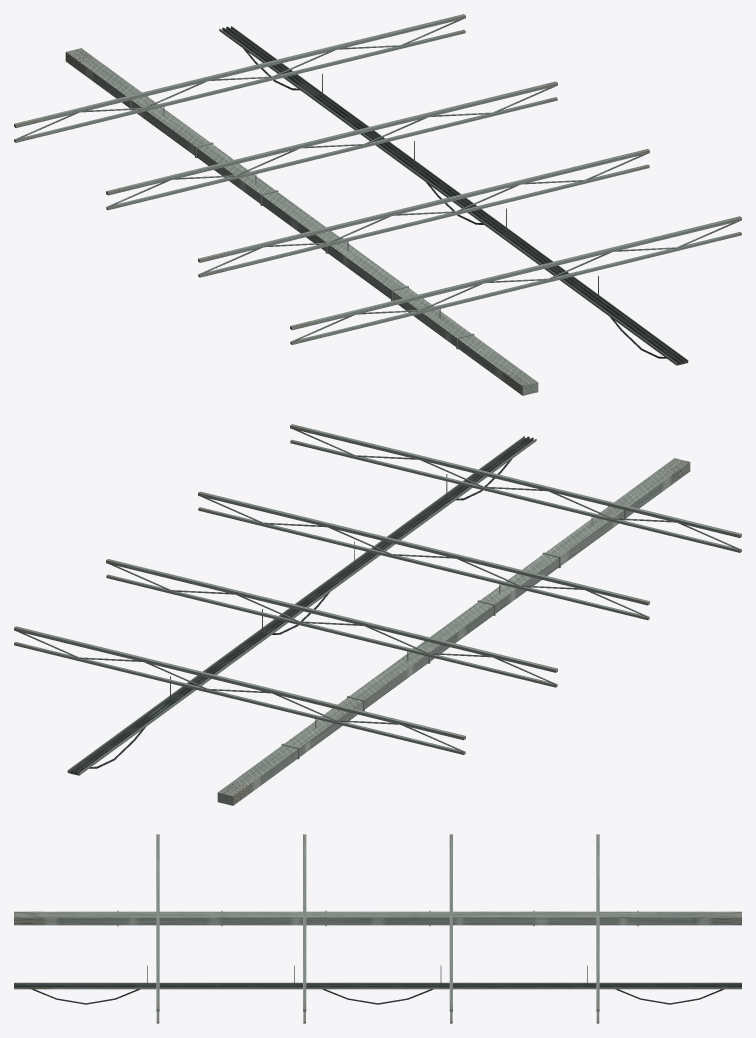
File: ceiling_containment_wing.glb
3 renders of one model, top to bottom at view 1: azimuth 30°, elevation 25°; view 2: azimuth 150°, elevation 25°; view 3: azimuth 270°, elevation 25°, orthographic. The views are drawn at different scales.
Visible parts, largest first — view 1: Ceiling; view 2: Ceiling; view 3: Ceiling.
Boxes of the visible parts, x1,y1,x2,y2 form: Ceiling: [14, 14, 741, 395]; Ceiling: [14, 424, 741, 805]; Ceiling: [14, 834, 741, 1023].
Size of the model in its own units: 15.81 by 2.18 by 27.8.
1 material, 1 textured.
